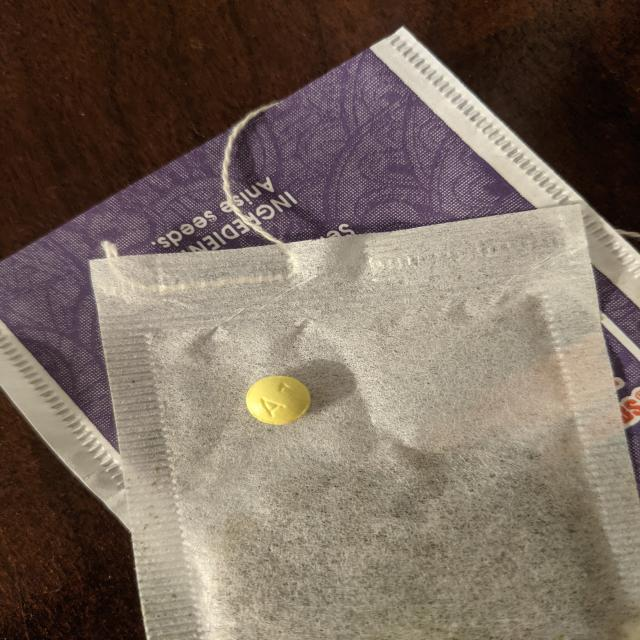non-organic waste: (244, 374, 314, 426)
